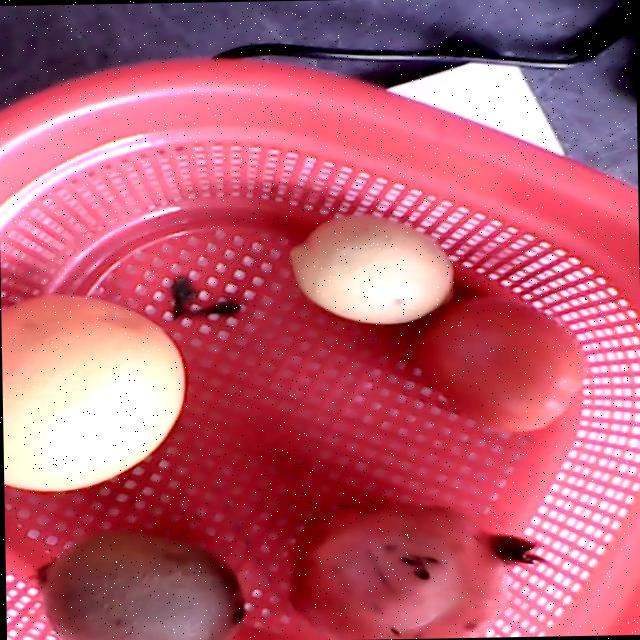kiwi: (32, 527, 247, 640)
lemon: (288, 215, 454, 324)
orange: (2, 293, 186, 492)
pomegranate: (289, 495, 538, 639)
tomato: (410, 297, 580, 432)
